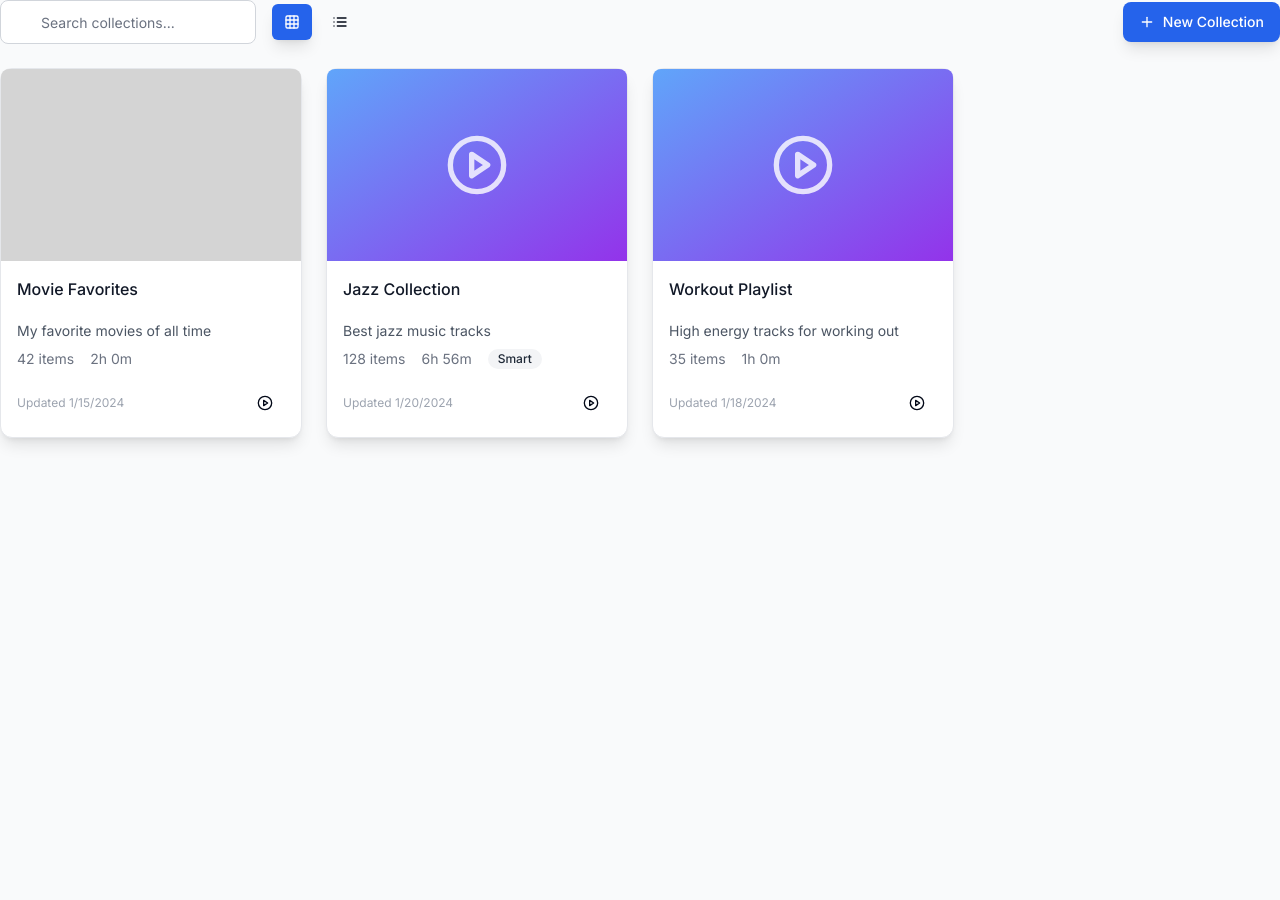
Test: CollectionsManager › opens create modal when New Collection is clicked
The width and height of the screenshot is (1280, 900).
Click the button "New Collection" at (1201, 22), box [1123, 2, 1279, 42]
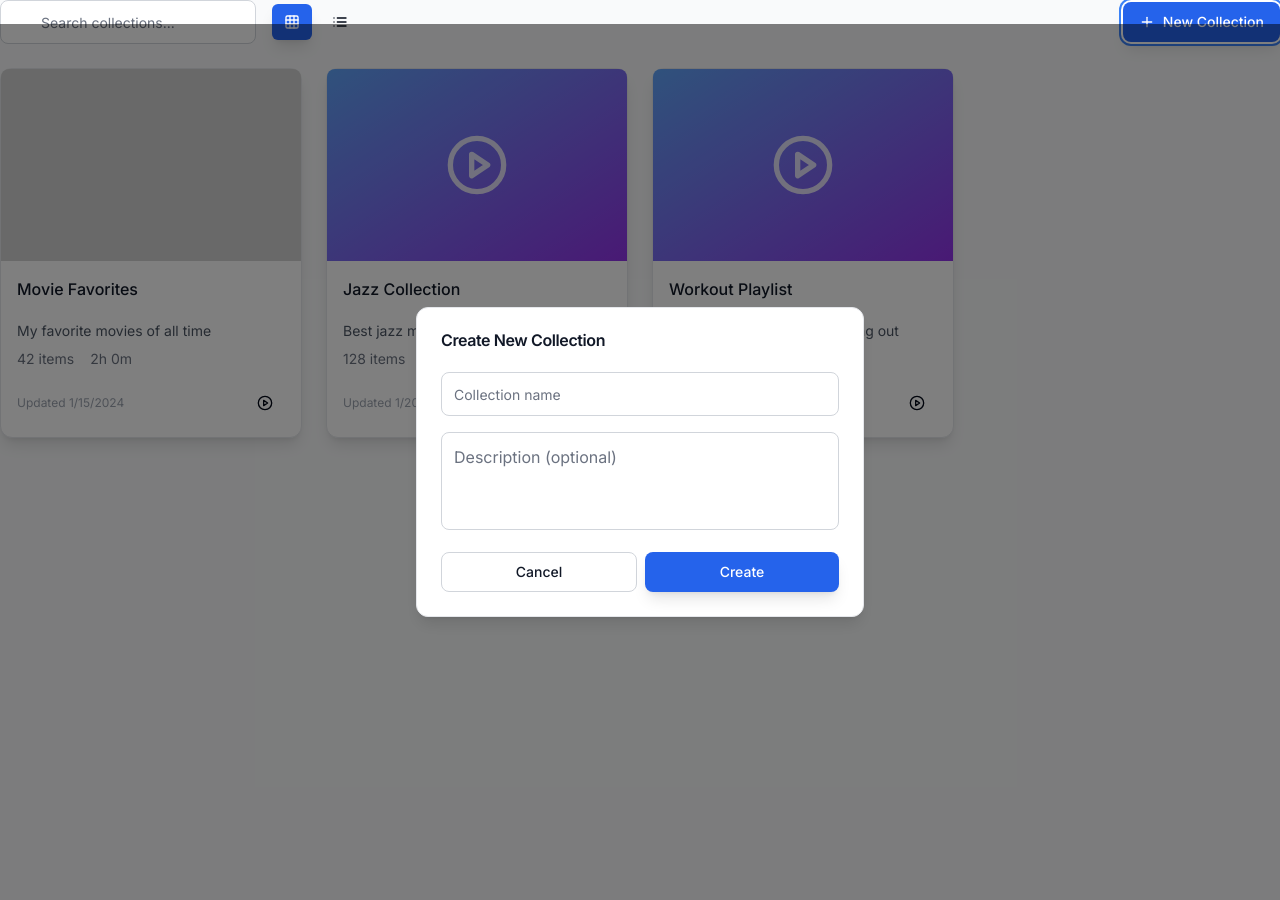
Expected: the heading "Create New Collection" is shown, [441, 330, 605, 350]
Expected: the field with placeholder "Collection name" is shown, [441, 372, 839, 416]
